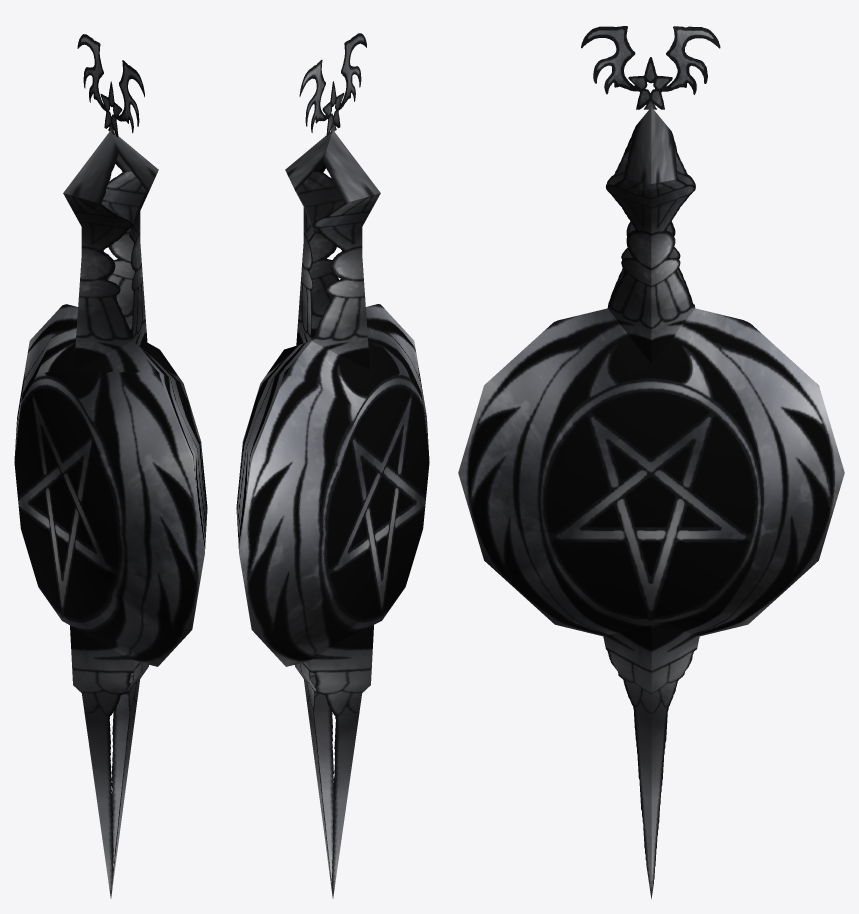
File: seed.FBX
3 views of the same model, side by side, from view 1: azimuth 30°, elevation 25°; view 2: azimuth 150°, elevation 25°; view 3: azimuth 270°, elevation 25° (orthographic). The views are drawn at different scales.
Parts seen in each view (by area): view 1: Cylinder001; view 2: Cylinder001; view 3: Cylinder001.
Part boxes in pixels (<box>): Cylinder001: <box>14,34,207,898</box>; Cylinder001: <box>236,33,429,898</box>; Cylinder001: <box>458,26,844,899</box>.
Size of the model in its own units: 19.19 by 161 by 63.76.
Materials: 1 (1 with a texture image).
